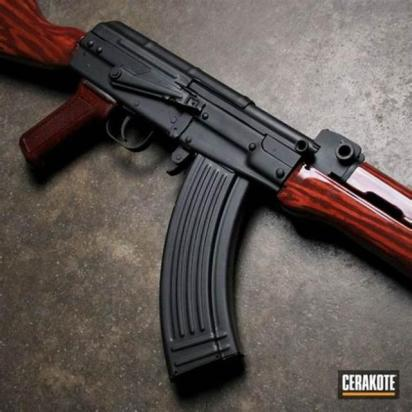Gun: (0, 1, 412, 397)
